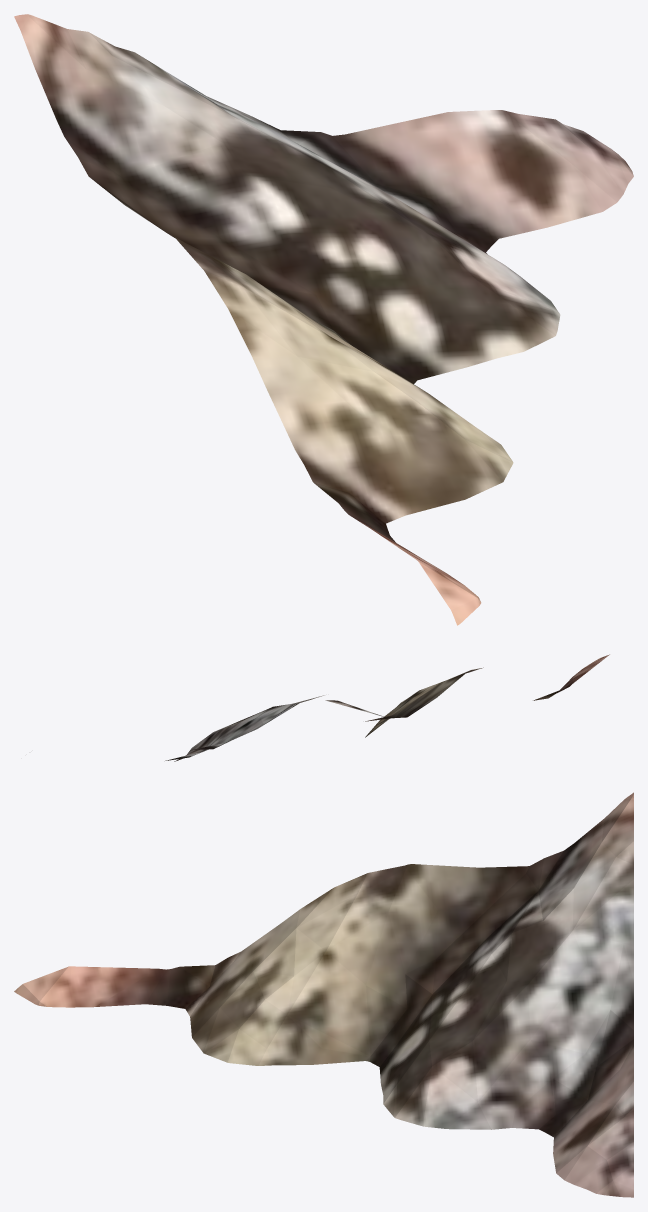
3 views of the same model, one above another, from view 1: azimuth 30°, elevation 25°; view 2: azimuth 150°, elevation 25°; view 3: azimuth 270°, elevation 25° (orthographic). The views are drawn at different scales.
Size of the model in its own units: 0.4159 by 0.1875 by 0.5288.
Materials: 1 (1 with a texture image).
